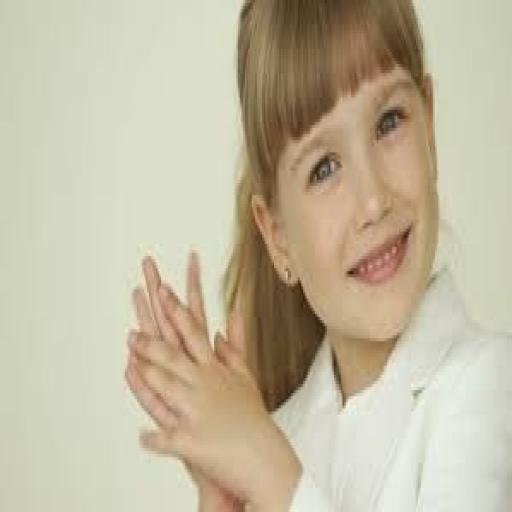clapping: (124, 0, 510, 509)
